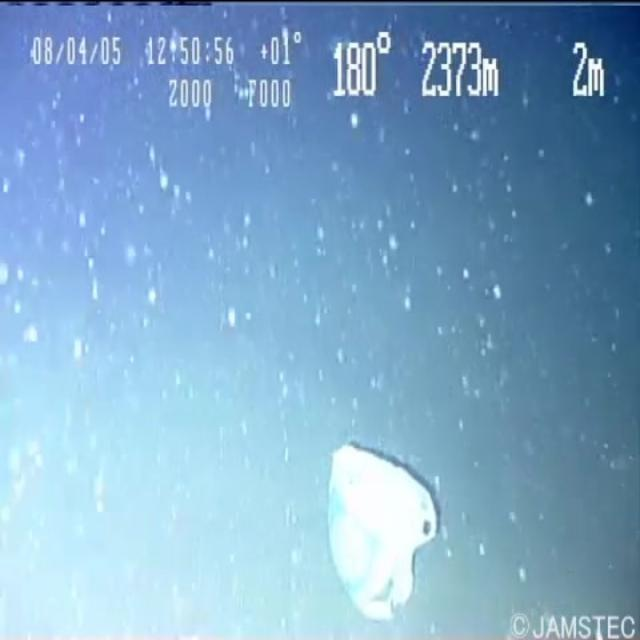Plastic: (326, 434, 451, 634)
